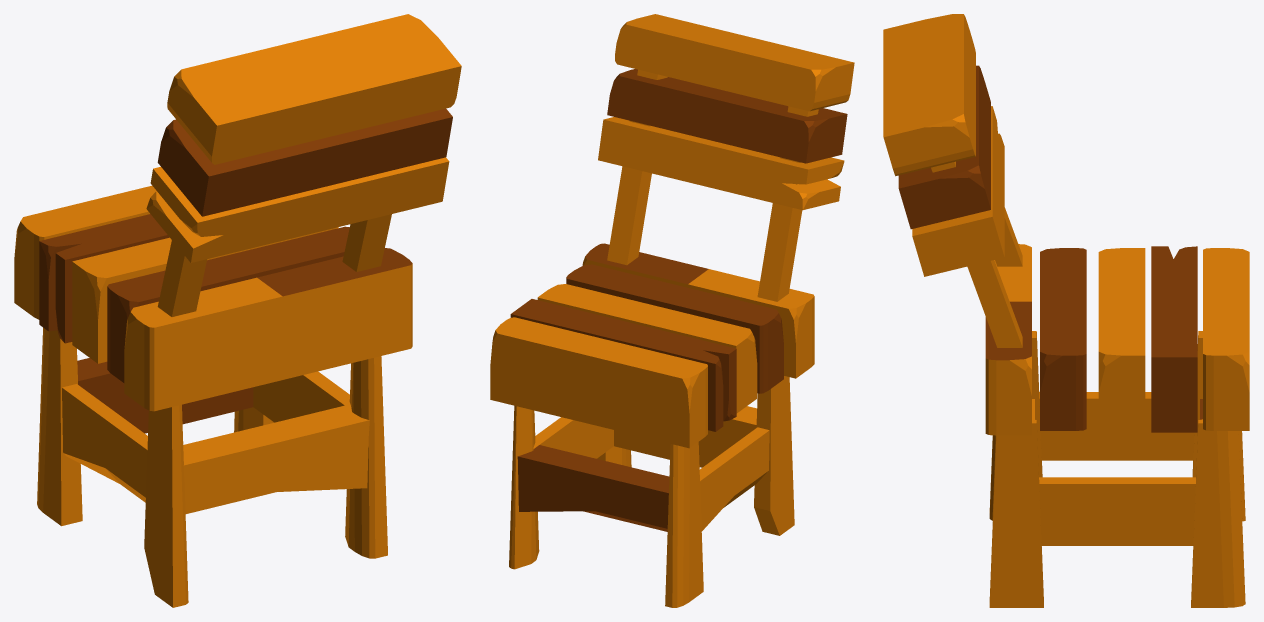
The model's file is woodchair.fbx.
3 views of the same model, side by side, from view 1: azimuth 30°, elevation 25°; view 2: azimuth 150°, elevation 25°; view 3: azimuth 270°, elevation 25° (orthographic). The views are drawn at different scales.
Visible parts, largest first — view 1: chair; view 2: chair; view 3: chair.
Boxes of the visible parts, x1,y1,x2,y2 form: chair: (14,14,461,607); chair: (490,14,854,607); chair: (883,14,1249,607).
Size of the model in its own units: 18.53 by 36.75 by 24.55.
